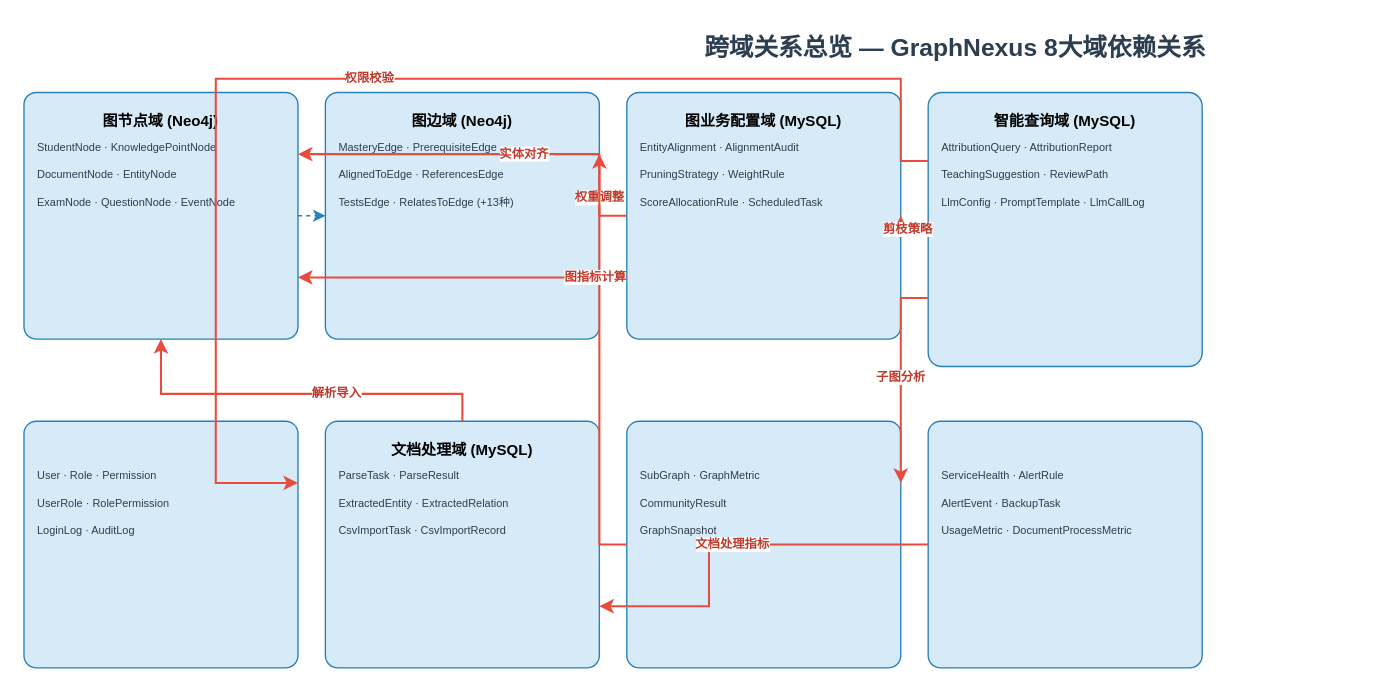
Some shapes in this 1391 by 692 pixel diagram are drawn without their labels. Here are the shapes that lost their labels. From the top down, the box of each, then its label:
(23, 420, 298, 668): 用户权限域 (MySQL)
(625, 420, 901, 668): 图分析域 (MySQL)
(927, 420, 1202, 668): 运维运营域 (MySQL)
